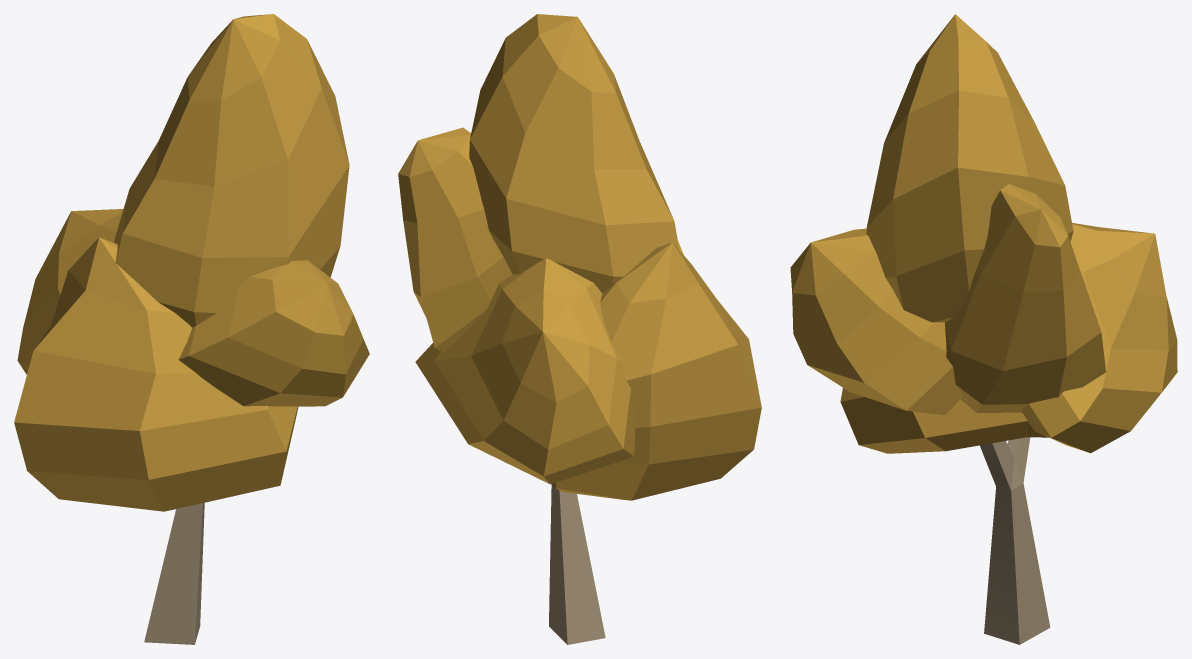
File: tree2.fbx
3 renders of one model, left to right at view 1: azimuth 30°, elevation 25°; view 2: azimuth 150°, elevation 25°; view 3: azimuth 270°, elevation 25°, orthographic. The views are drawn at different scales.
Parts seen in each view (by area): view 1: pSphere13; view 2: pSphere13; view 3: pSphere13.
Part boxes in pixels (bbox=[...]): pSphere13: bbox=[14, 14, 369, 644]; pSphere13: bbox=[398, 14, 761, 644]; pSphere13: bbox=[790, 14, 1177, 644].
Size of the model in its own units: 11.88 by 20.52 by 11.4.
